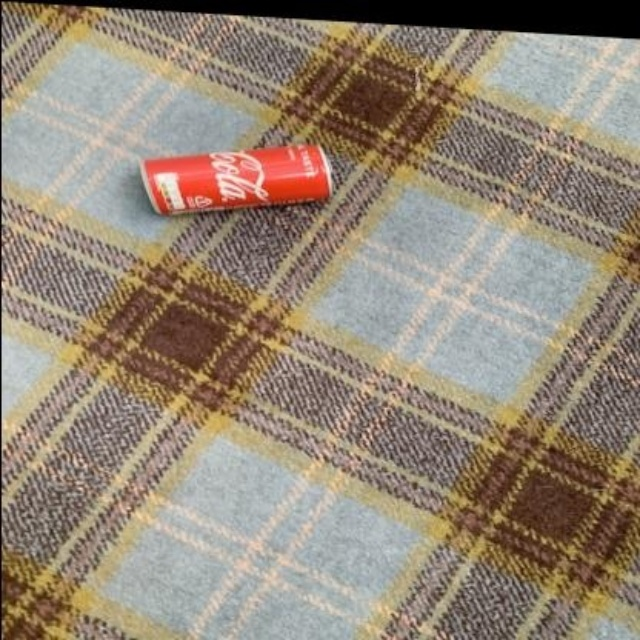trash: (140, 146, 331, 214)
